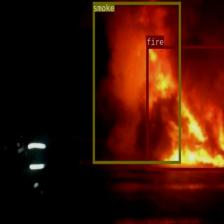fire: (146, 46, 224, 170)
smoke: (92, 2, 180, 164)
